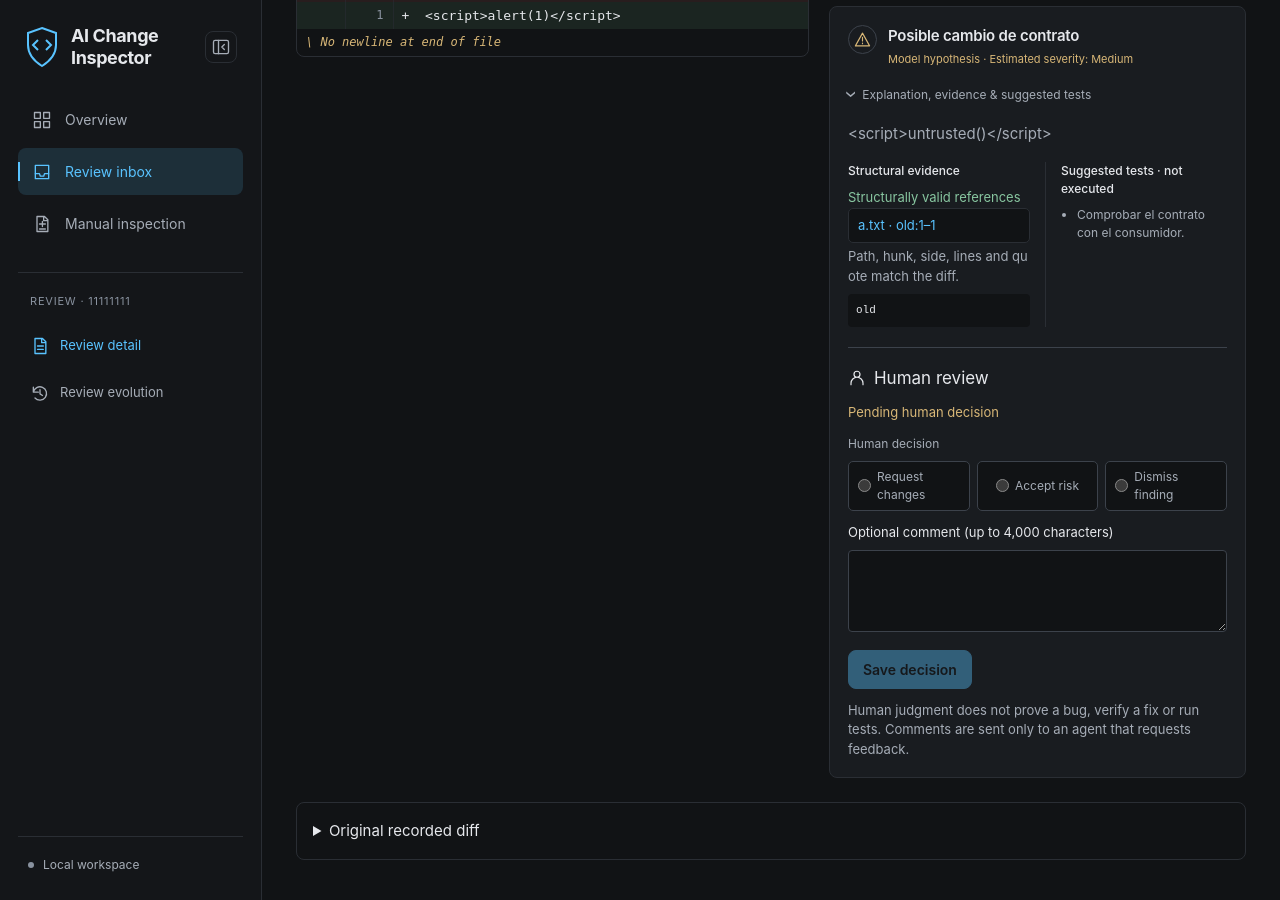
Test case: keeps the draft on recoverable save errors and never marks it as saved
(page scrolled)
Click the radio button labelled "Dismiss finding". click: x=1122, y=486
box: [1115,479,1128,492]
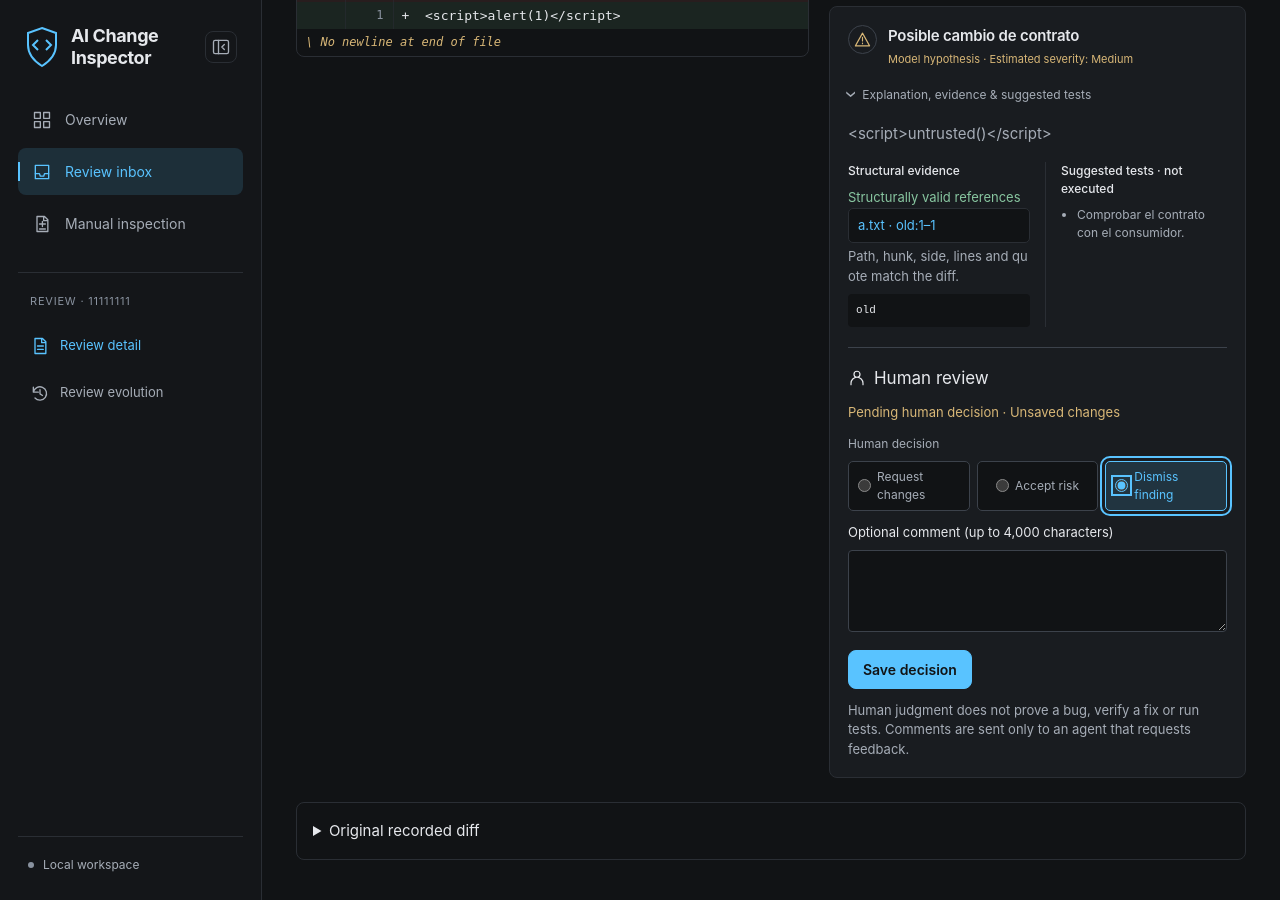
Click the button "Save decision". click: x=910, y=669
box: [848,650,972,689]
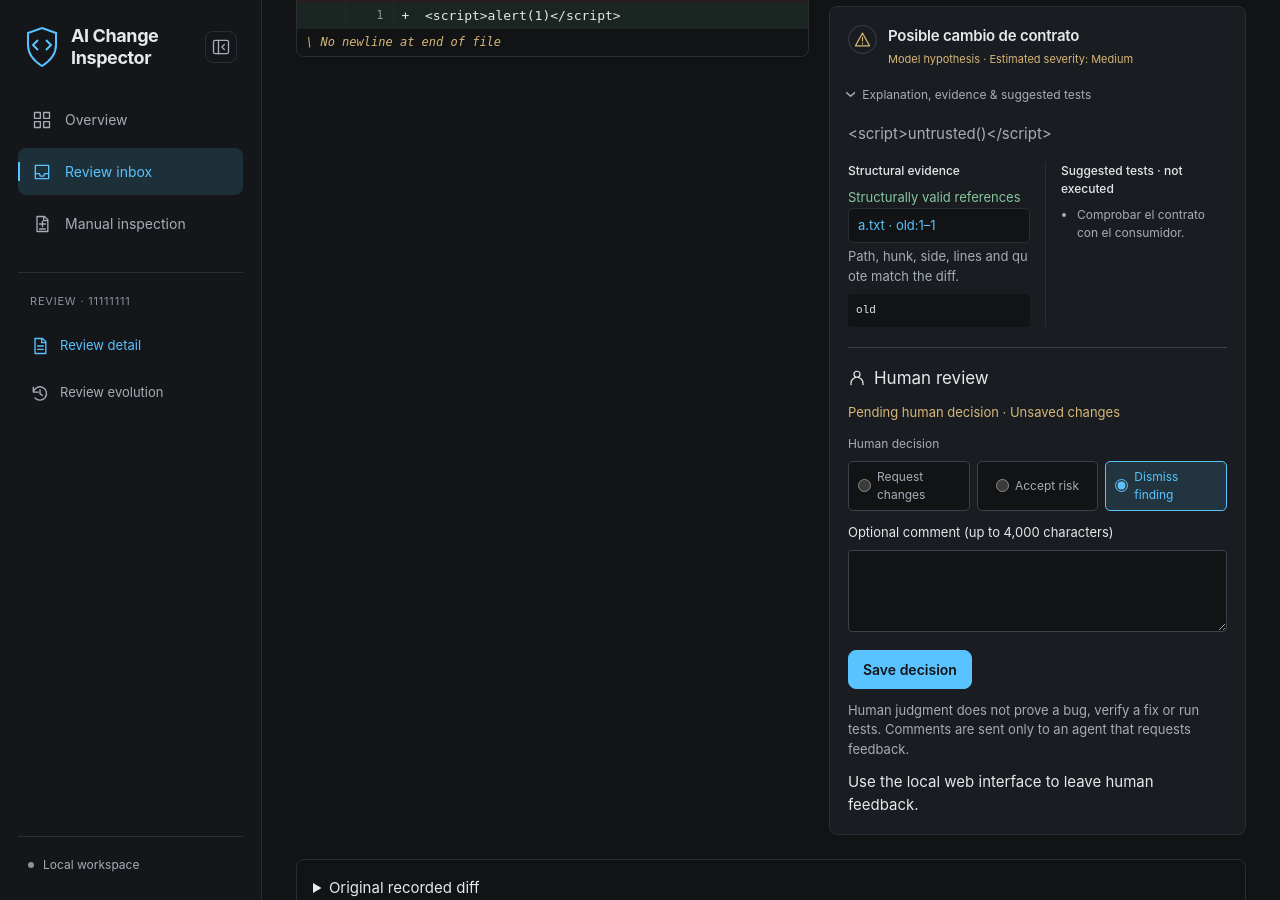
Expected: the radio button labelled "Dismiss finding" is checked, [1115,479,1128,492]
Expected: the button "Save decision" is enabled, [848,650,972,689]
Expected: the message "Use the local web interface to leave human feedback." is shown, [848,772,1154,814]
